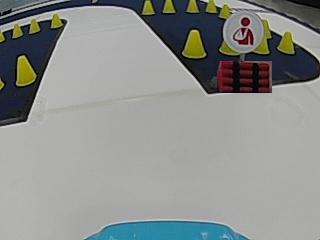cone: (182, 29, 206, 59), (15, 55, 35, 86), (277, 31, 295, 54), (254, 36, 269, 54), (217, 3, 231, 18), (141, 0, 154, 15), (50, 13, 62, 28), (28, 18, 40, 33), (162, 0, 175, 13), (12, 23, 23, 38), (187, 0, 199, 13), (205, 0, 216, 12), (0, 28, 5, 42)
patient: (225, 11, 263, 52)
